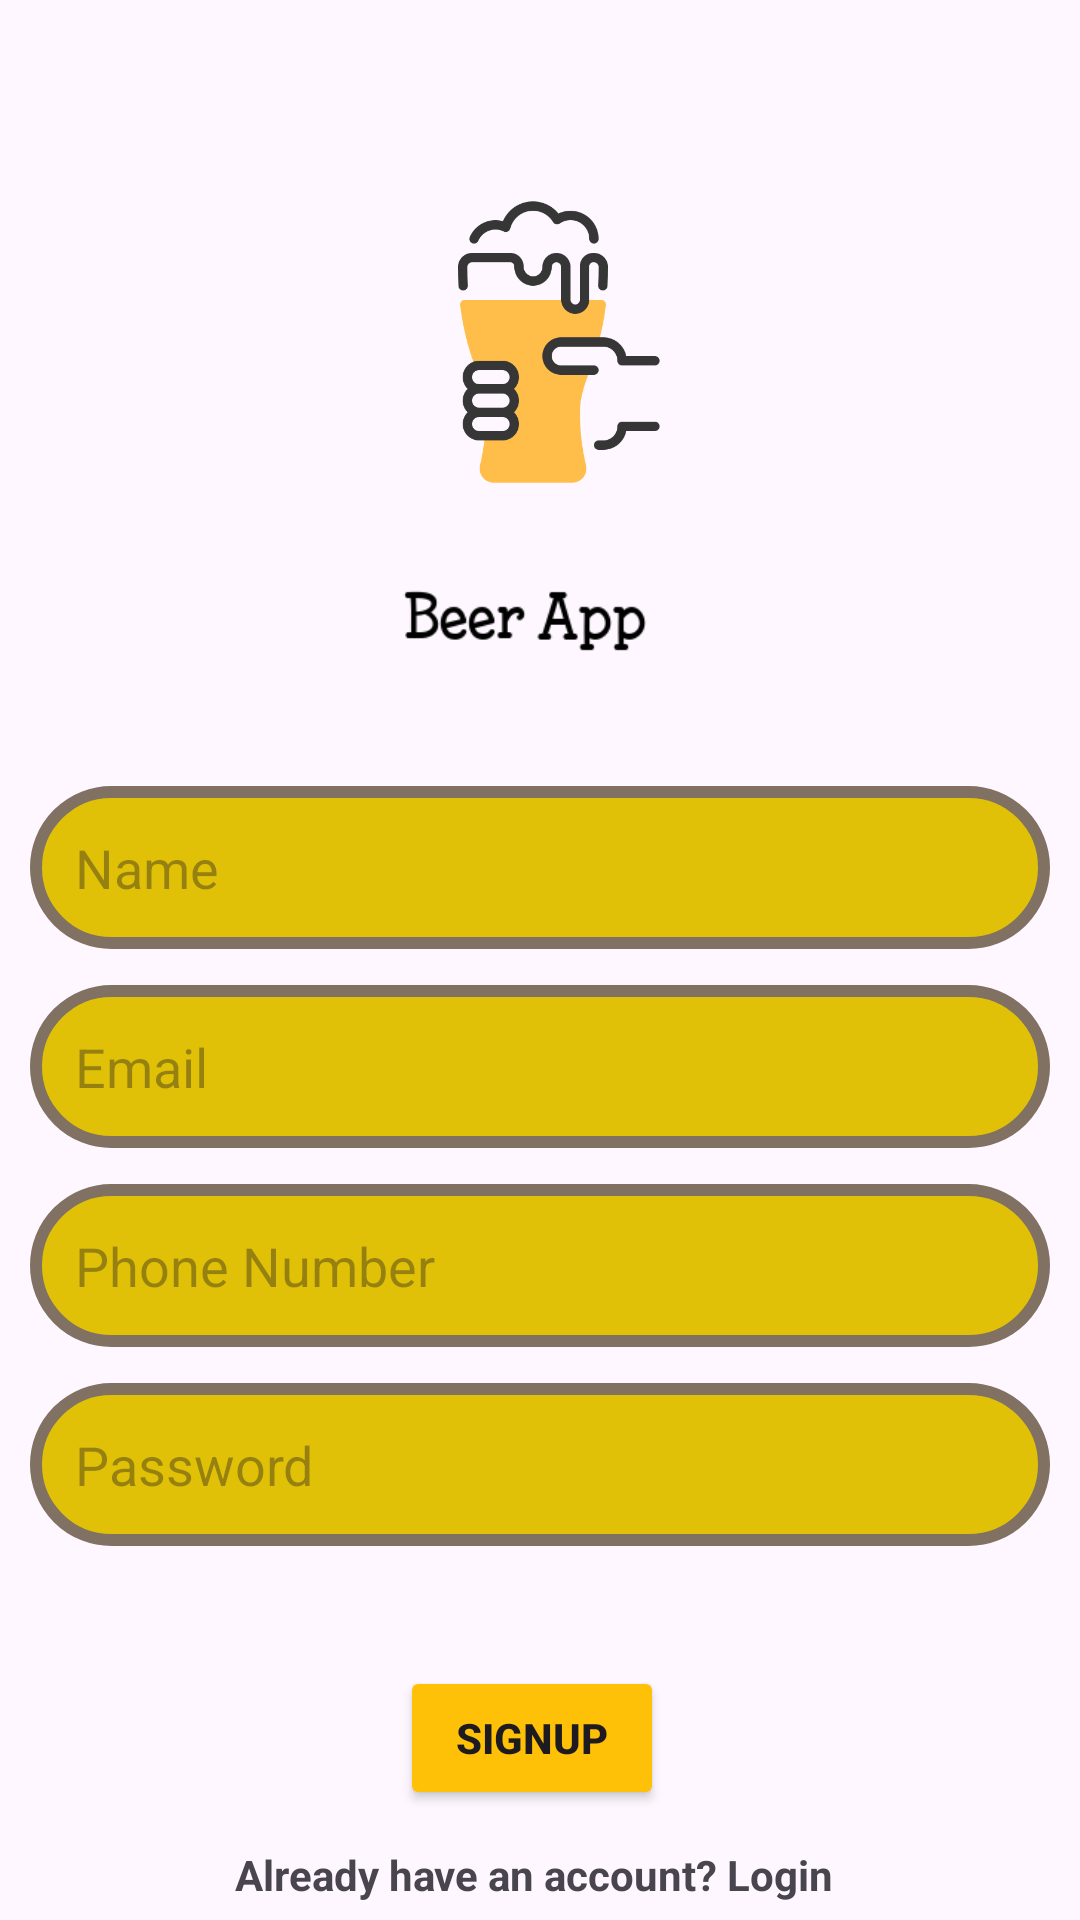

Named icons in this screenshot (1080w x 1920h) and their centers, point (x, y):
beer: point (559, 342)
